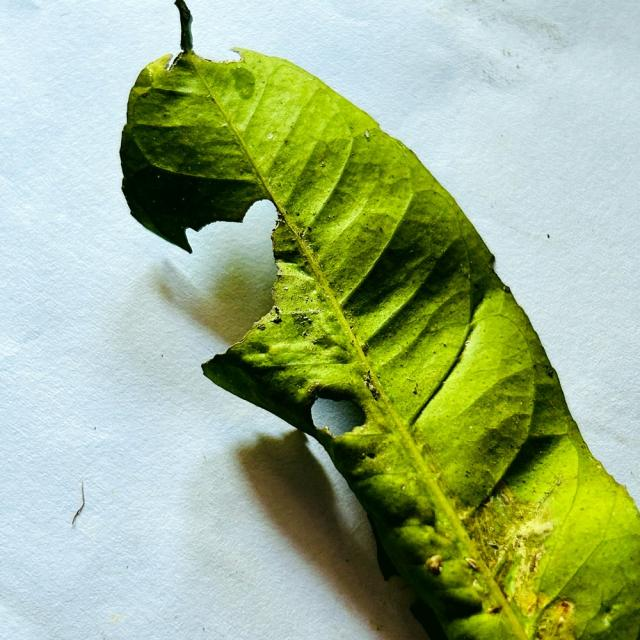Deficiency Leaf: (145, 201, 276, 353), (302, 385, 365, 446), (364, 371, 380, 400)
Lemon: (120, 0, 639, 639)
